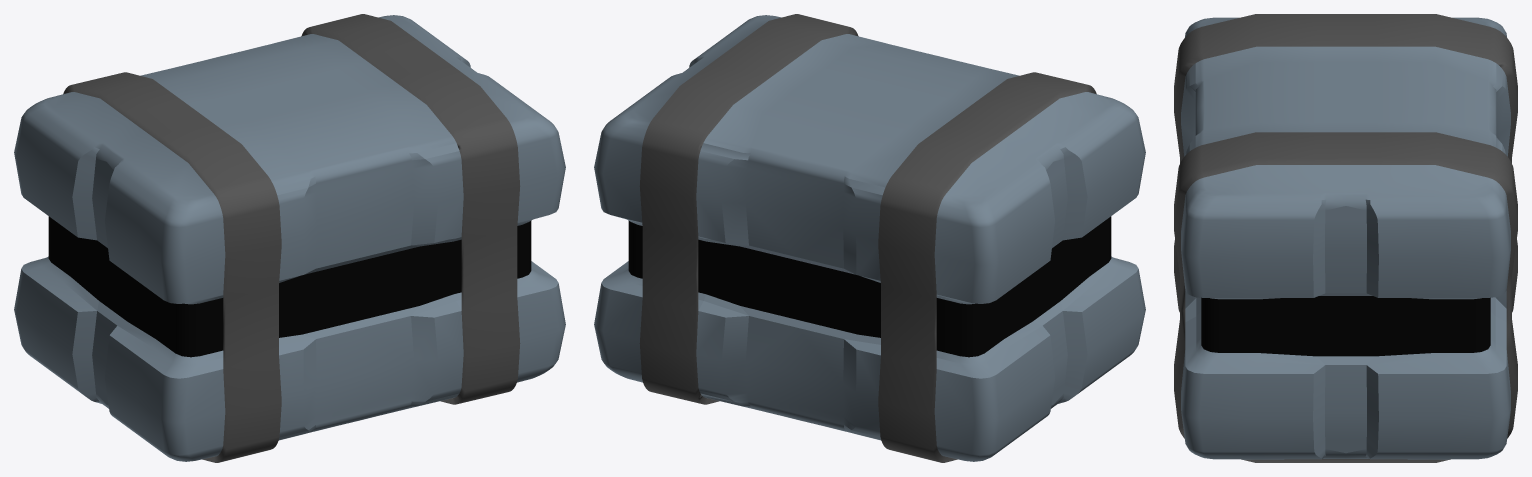
The model's file is Contenedor_Cuadrado.fbx.
The picture shows the model from 3 angles, left to right: view 1: azimuth 30°, elevation 25°; view 2: azimuth 150°, elevation 25°; view 3: azimuth 270°, elevation 25°; orthographic projection.
Visible parts, largest first — view 1: Contenedor_Cubo; view 2: Contenedor_Cubo; view 3: Contenedor_Cubo.
Part boxes in pixels (<box>): Contenedor_Cubo: <box>14,14,565,462</box>; Contenedor_Cubo: <box>594,14,1145,462</box>; Contenedor_Cubo: <box>1174,14,1517,462</box>.
Bounding box in the file's own units: 3.33 × 2.37 × 2.42.
